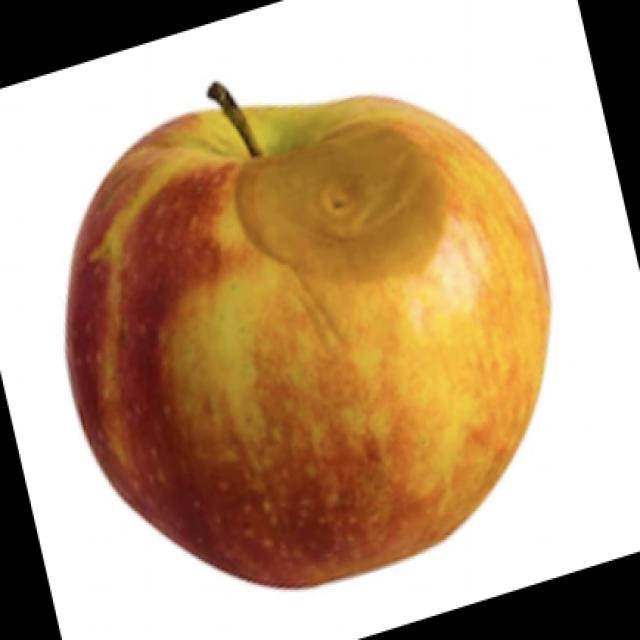Rotten: (47, 87, 548, 570)
